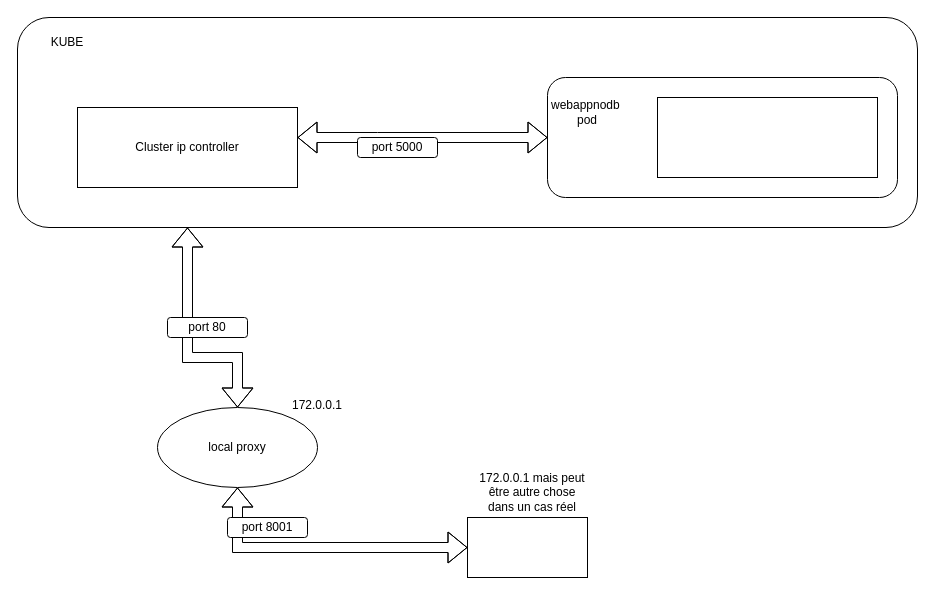
Image size: 935x595. Some labels were removed from this diagram. Each missing label, with the centre of its shape:
client: the point at 527,547
Deployement webappnodb: the point at 767,137
